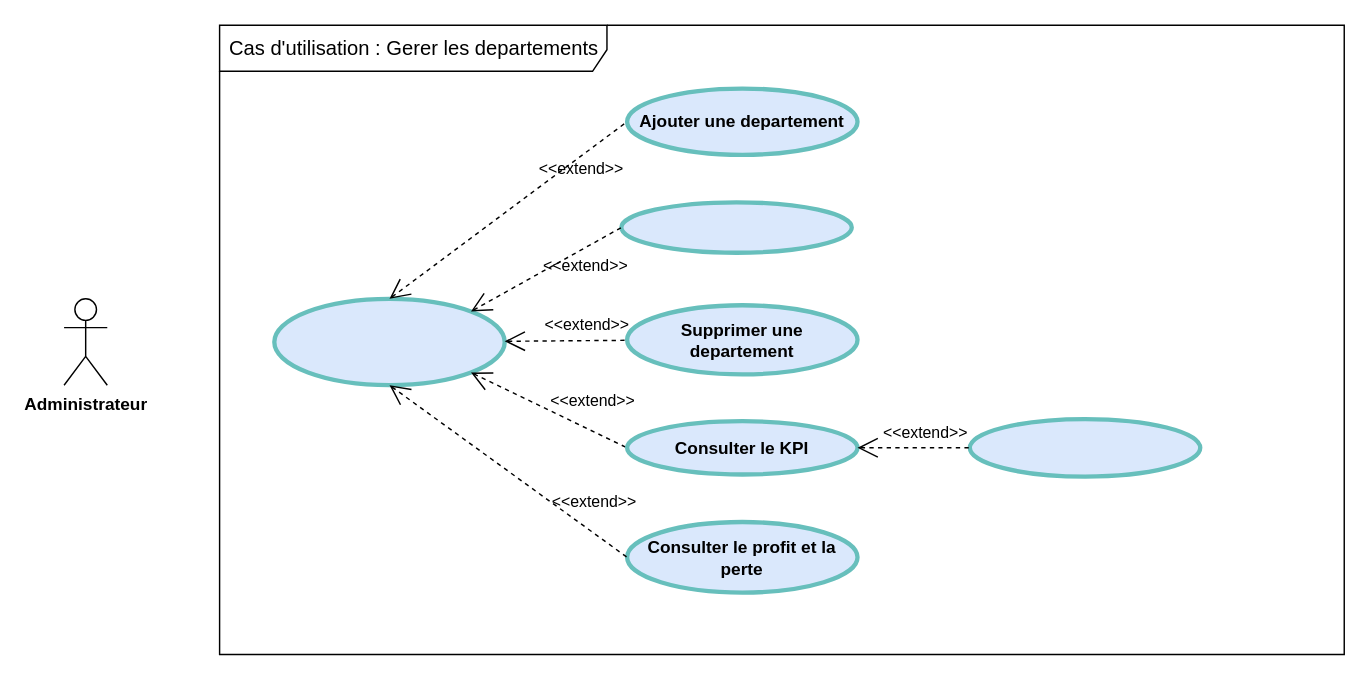
Image size: 1369x680. Some labels were removed from this diagram. Each missing label, with the centre of its shape:
"Afficher les KPI des projets" belongs at point 1084,447.
"Consulter departement" belongs at point 388,341.
"Modifier un departement" belongs at point 735,226.
